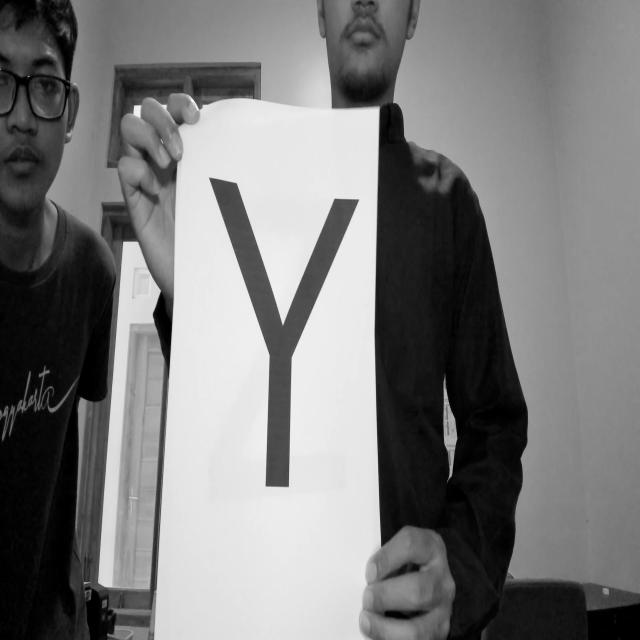y: (201, 157, 364, 504)
